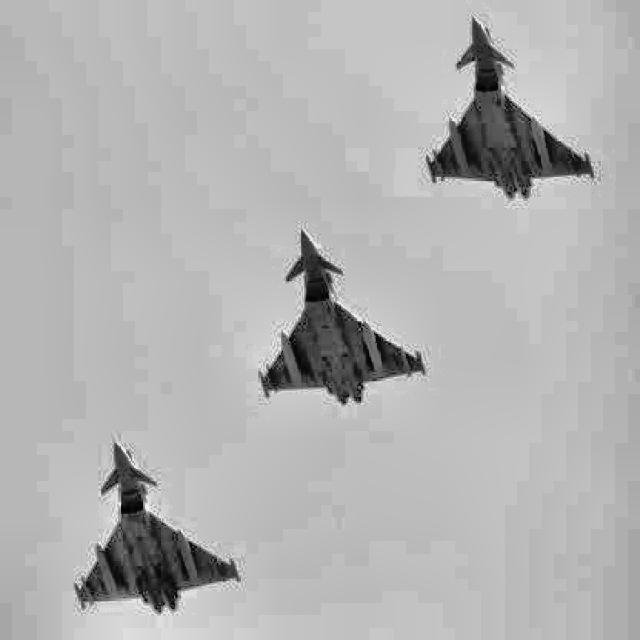EF2000: (426, 16, 594, 199), (258, 228, 425, 406), (74, 440, 240, 614)
